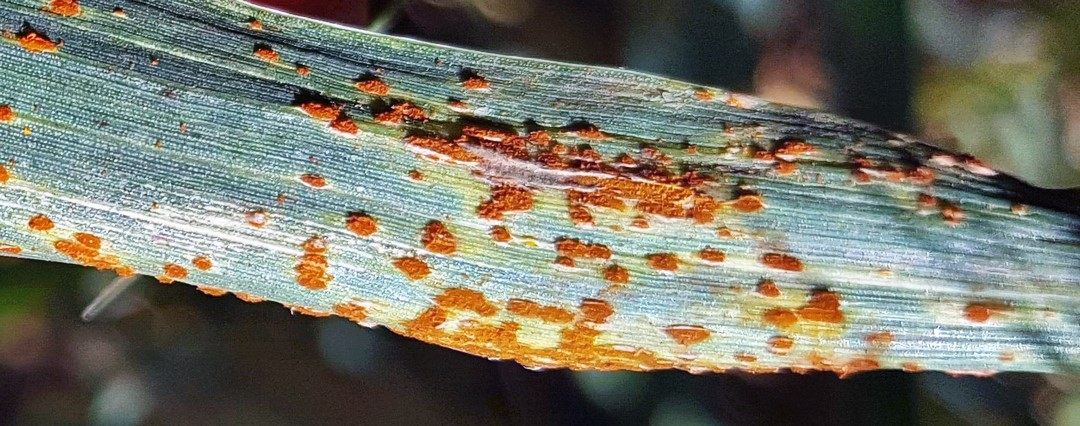Leaf Rust: (223, 30, 910, 373)
